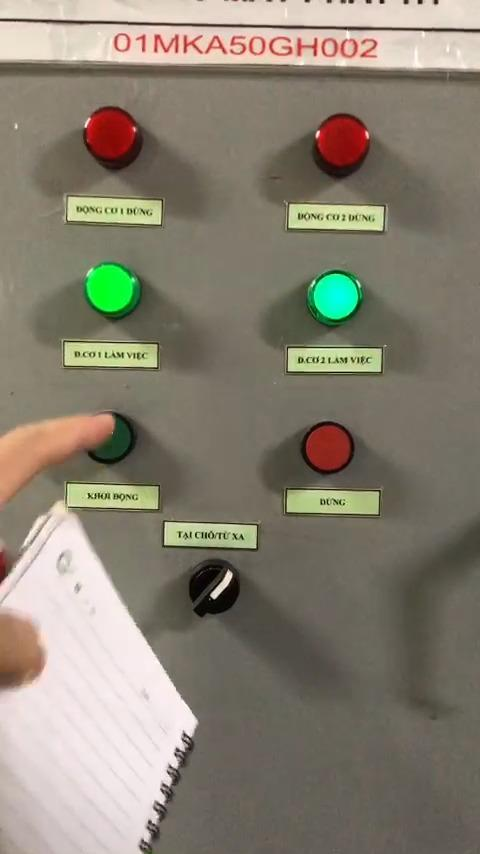led: (78, 104, 142, 165), (310, 115, 376, 172), (300, 415, 356, 479), (80, 259, 139, 318), (78, 409, 139, 466), (307, 271, 364, 324)
twist: (180, 554, 245, 621)
